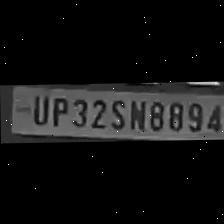2: (86, 96, 106, 129)
3: (68, 94, 88, 127)
4: (202, 100, 222, 132)
8: (164, 98, 182, 132), (146, 97, 164, 130)
9: (182, 100, 202, 132)
N: (126, 98, 146, 132)
P: (48, 94, 68, 126)
S: (106, 96, 126, 130)
U: (26, 92, 48, 125)
